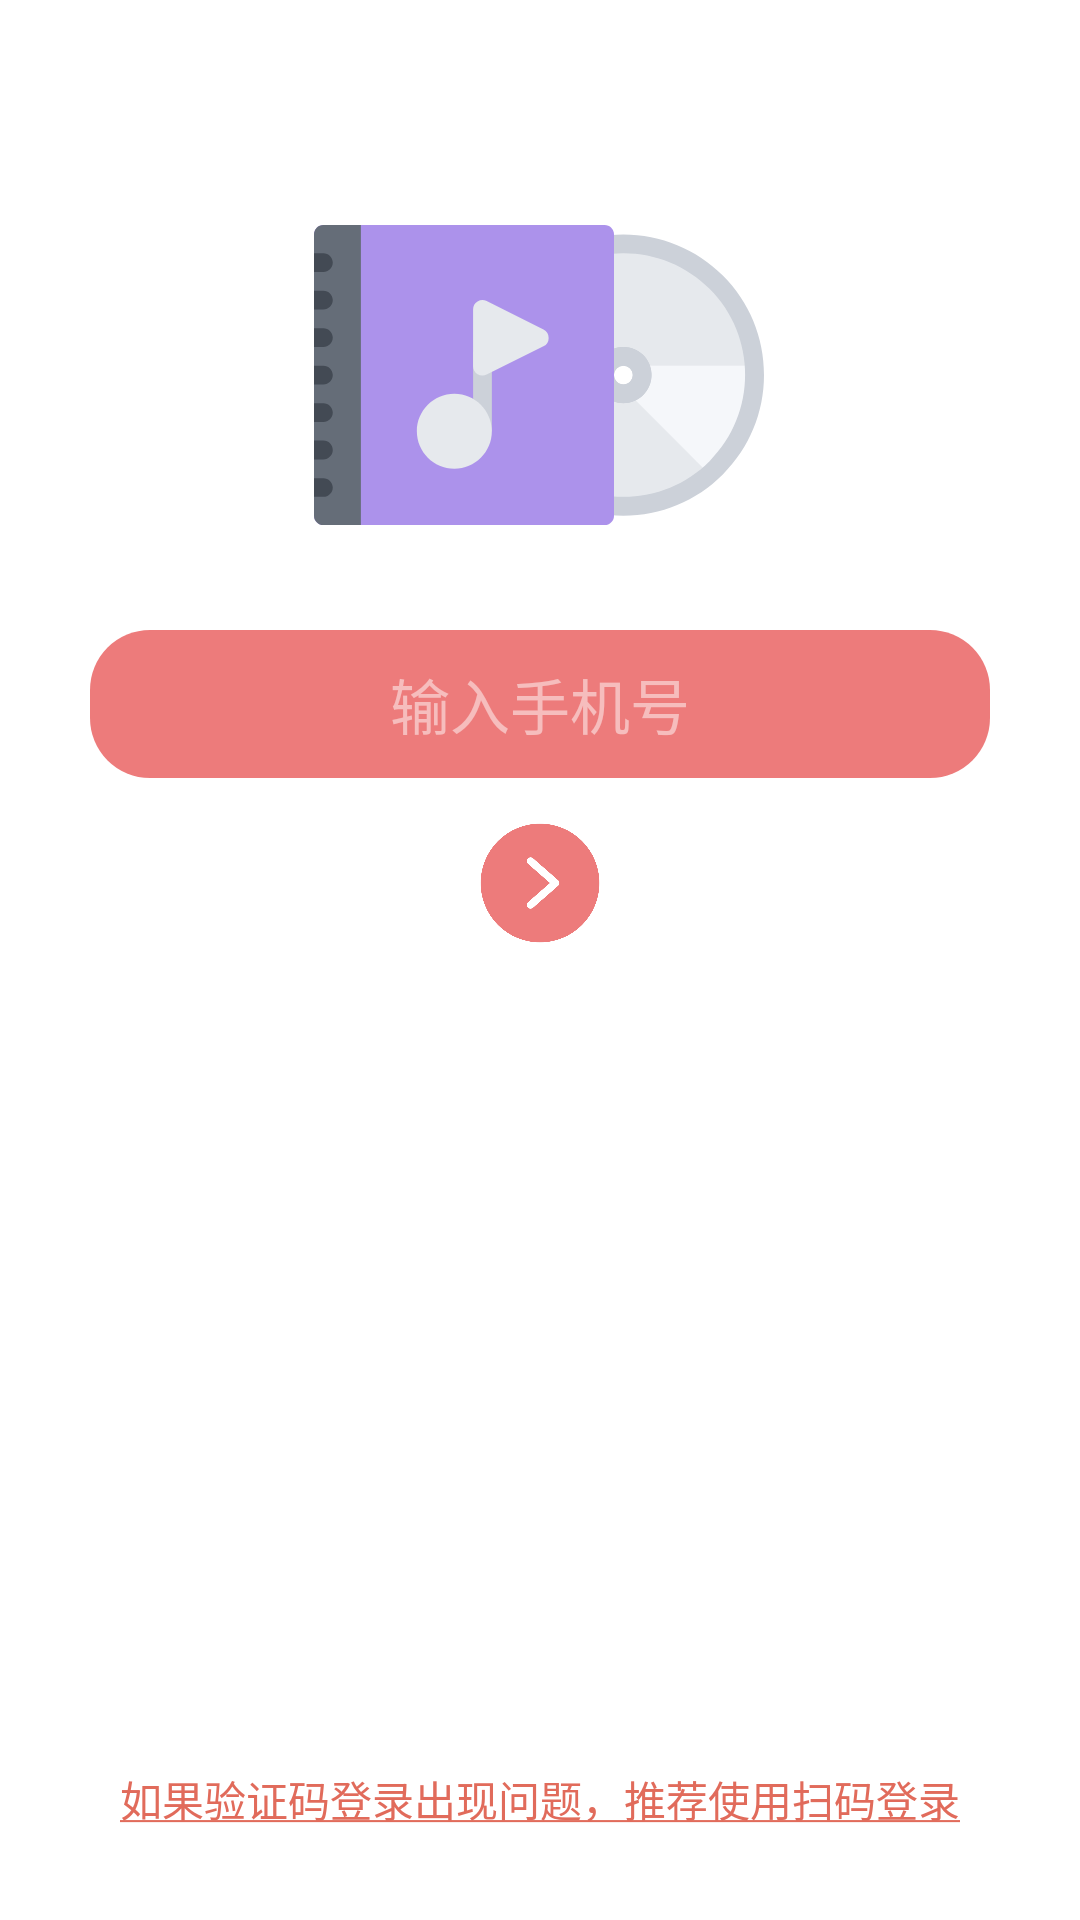

Icons on this 1080px x 1920px Android screen, each with the point to tap as (x=x, y=y):
login next: (x=540, y=883)
